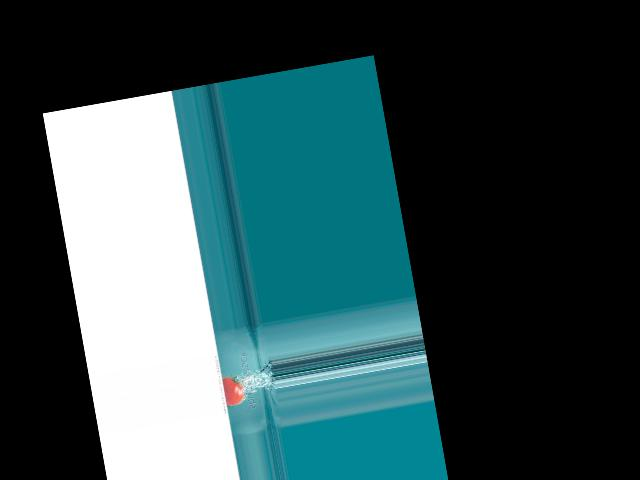tomato: (221, 373, 245, 406)
